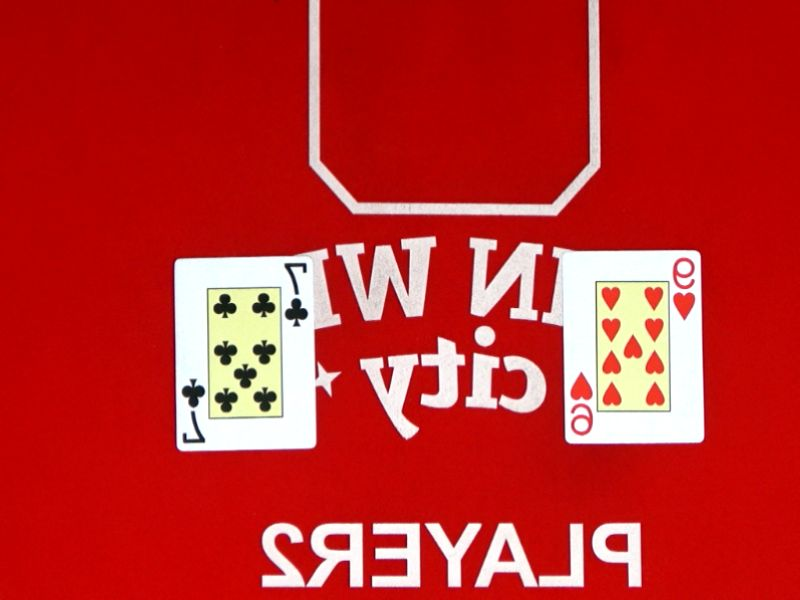7C: (151, 373, 233, 448), (257, 257, 336, 329)
9H: (544, 370, 620, 439), (649, 255, 723, 323)
